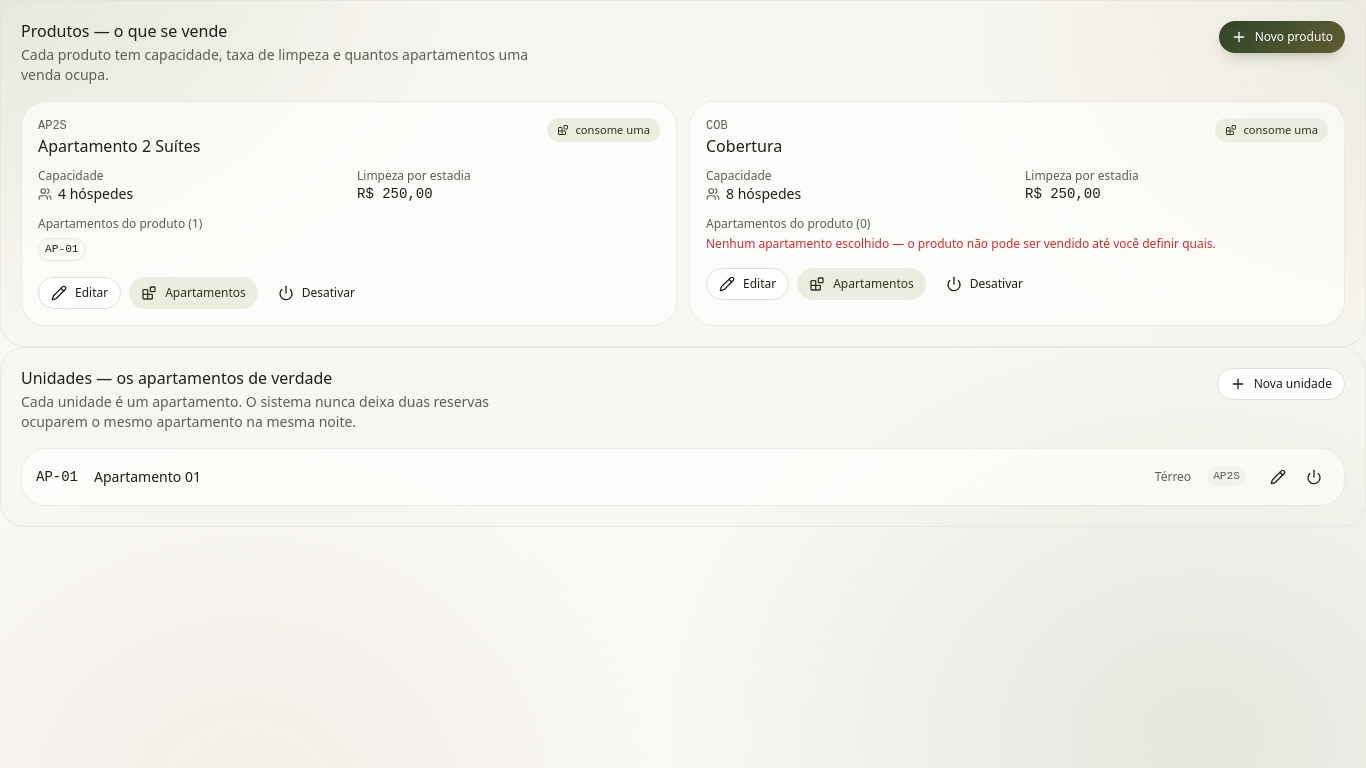
PainelDeInventario — modais reabertos › abre a edição com os valores da linha clicada
The width and height of the screenshot is (1366, 768).
Click the button "Editar" below "Apartamento 2 Suítes".
click(80, 293)  # box x1=38 y1=277 x2=121 y2=309
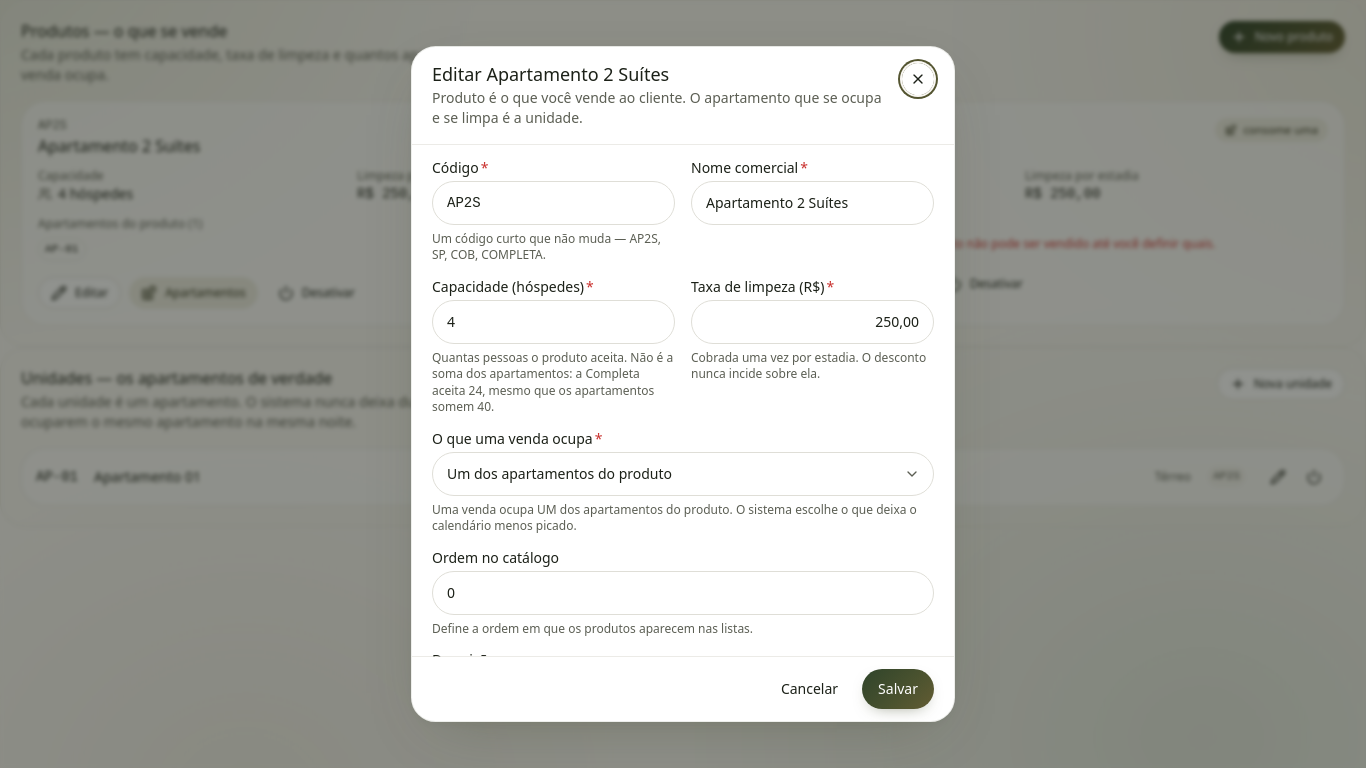
Expected: the dialog is shown, x1=411 y1=46 x2=955 y2=722
Expected: the field labelled "Código*" holds "AP2S", x1=432 y1=181 x2=675 y2=225
Expected: the field labelled "Capacidade (hóspedes)*" holds "4", x1=432 y1=300 x2=675 y2=344
